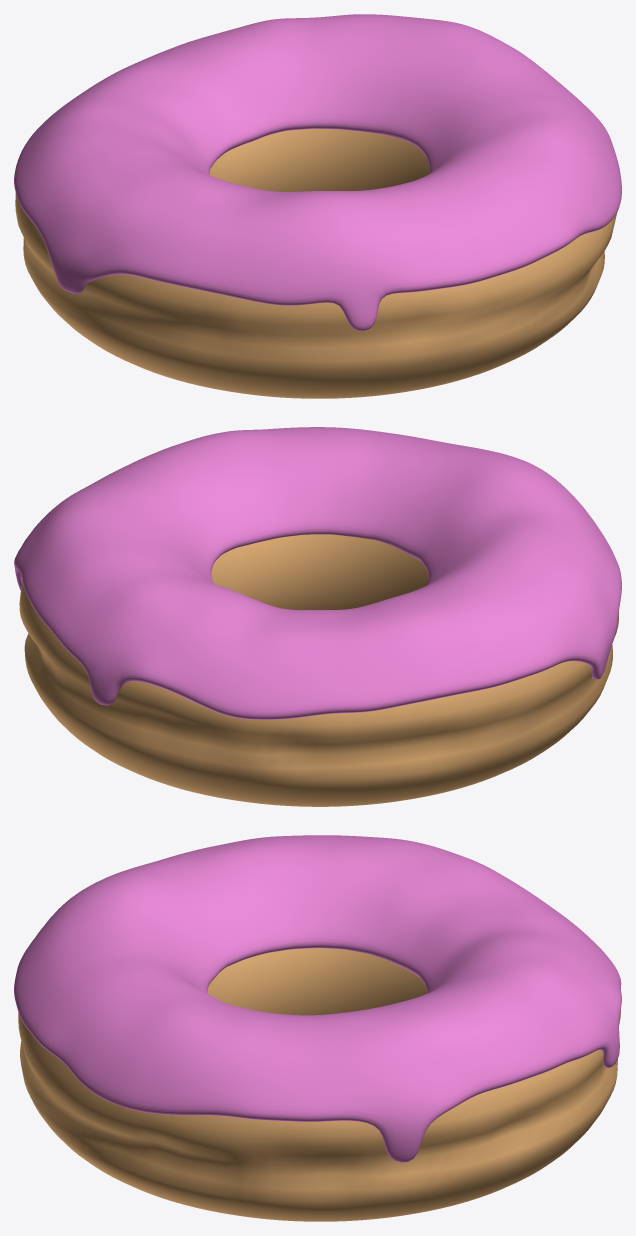
The model's file is donut1.glb.
3 views of the same model, one above another, from view 1: azimuth 30°, elevation 25°; view 2: azimuth 150°, elevation 25°; view 3: azimuth 270°, elevation 25° (orthographic).
Visible parts, largest first — view 1: icing, donut; view 2: icing, donut; view 3: icing, donut.
Part boxes in pixels (bbox=[...]): icing: bbox=[14, 14, 621, 330]; donut: bbox=[15, 129, 617, 398]; icing: bbox=[14, 427, 621, 719]; donut: bbox=[19, 534, 618, 806]; icing: bbox=[14, 835, 621, 1162]; donut: bbox=[18, 948, 620, 1221].
Bounding box in the file's own units: 0.1503 × 0.0531 × 0.147.
